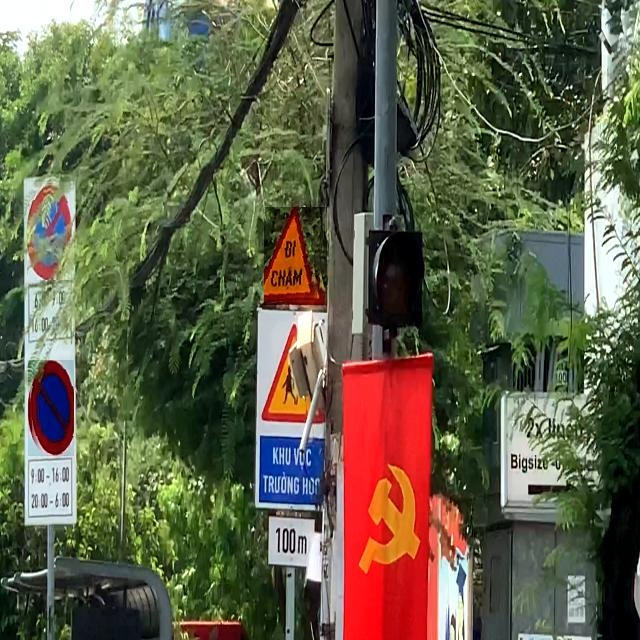bien_cam: (264, 207, 327, 305), (27, 182, 74, 280), (28, 360, 74, 456)
